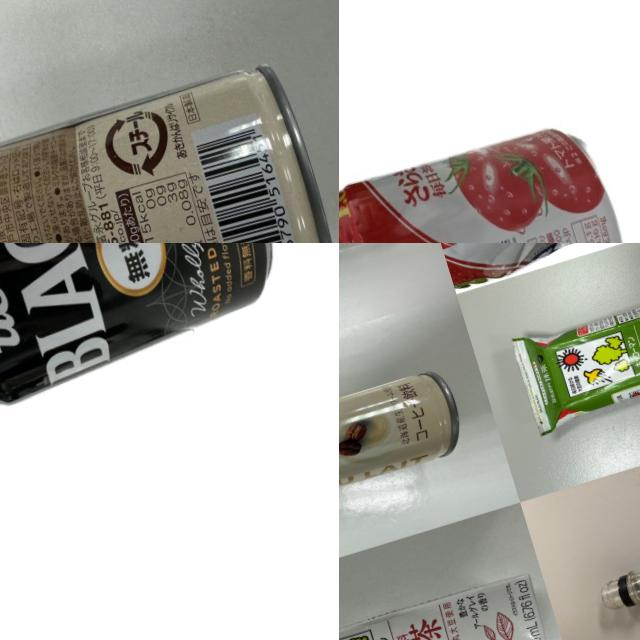Aluminium Foil: (497, 259, 640, 444), (339, 564, 557, 640)
Can: (0, 53, 339, 243), (0, 243, 303, 422), (339, 106, 640, 243), (339, 360, 465, 532)
Transparent Plastic Bottle: (572, 455, 640, 633)
